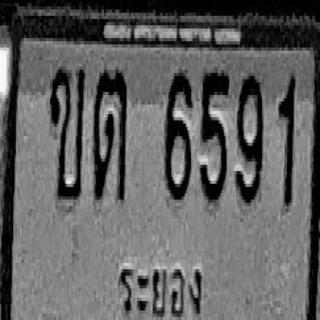A02: (49, 66, 85, 200)
A21: (93, 68, 127, 201)
N01: (278, 73, 295, 206)
N05: (200, 70, 228, 203)
N06: (164, 70, 192, 200)
N09: (235, 73, 263, 203)
P53: (112, 249, 203, 320)
